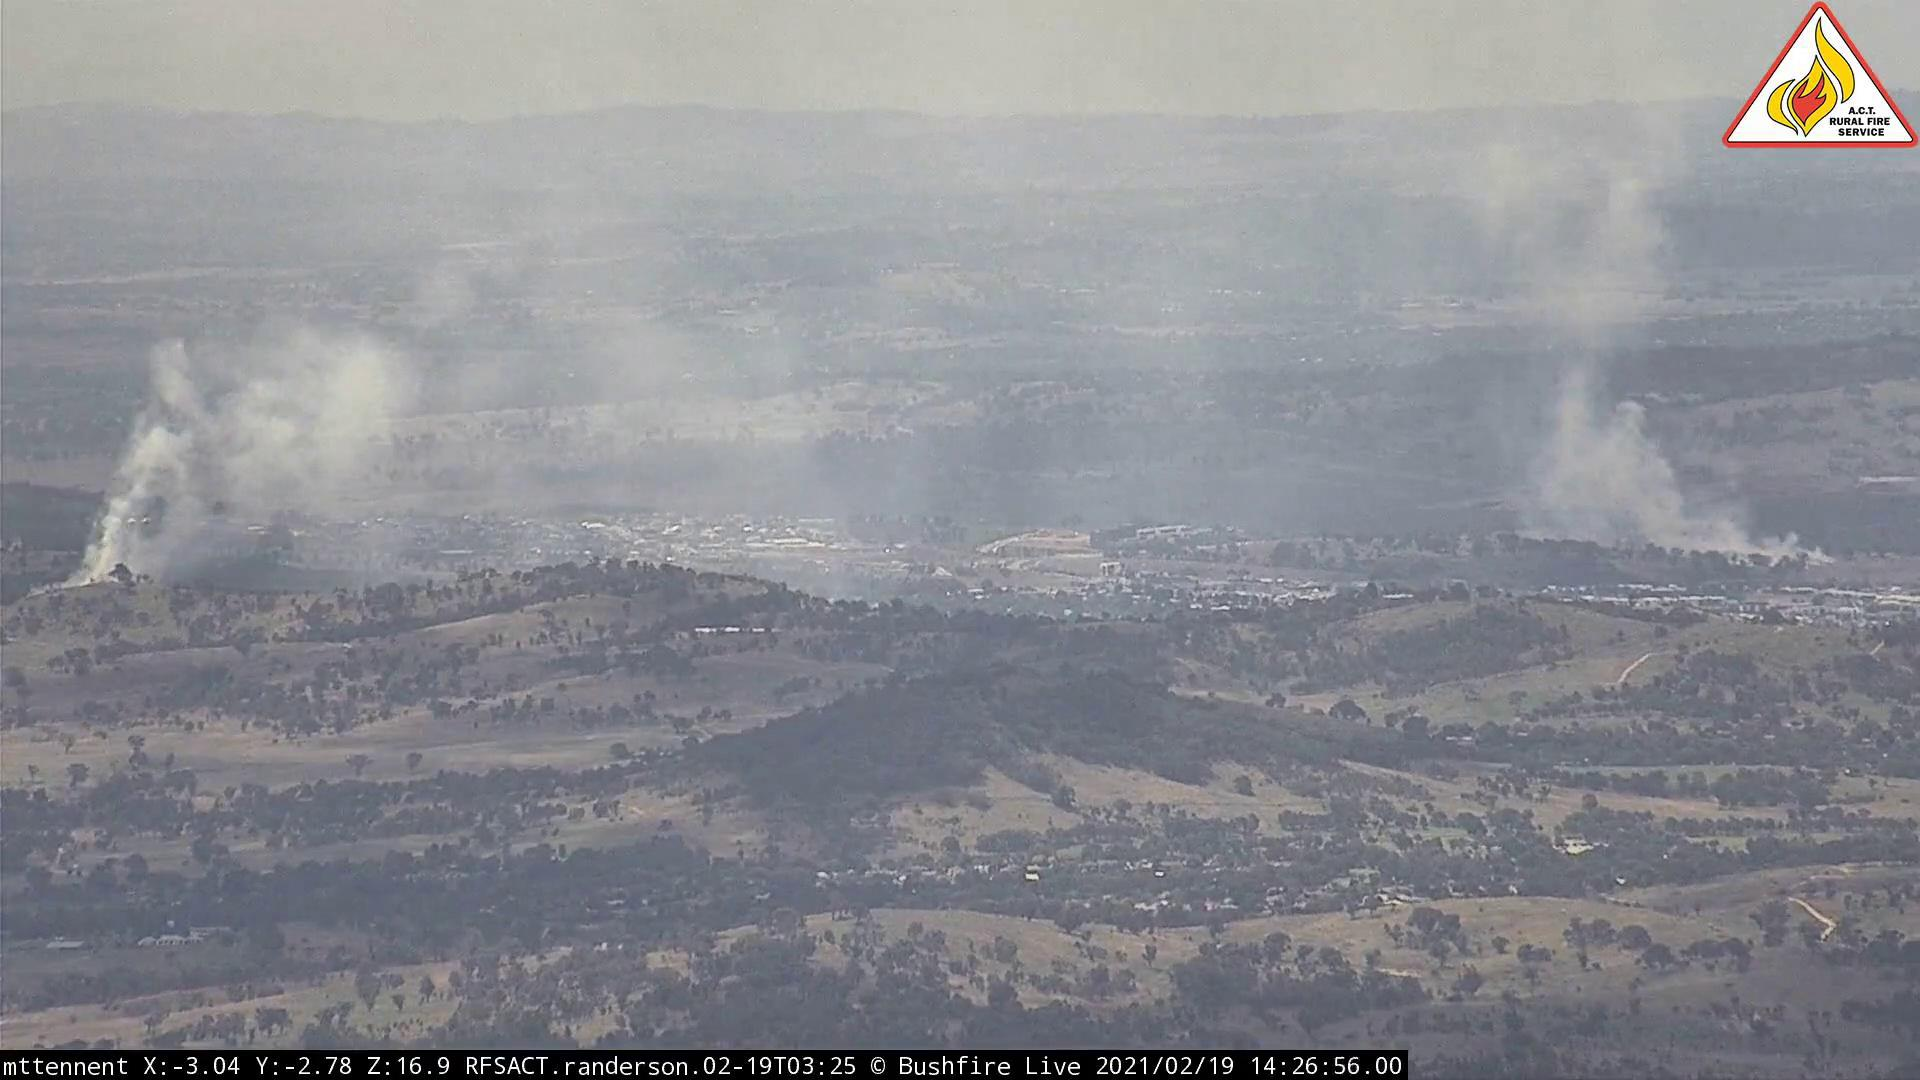instance_salient_object: (1443, 206, 1851, 570), (42, 309, 480, 605)
